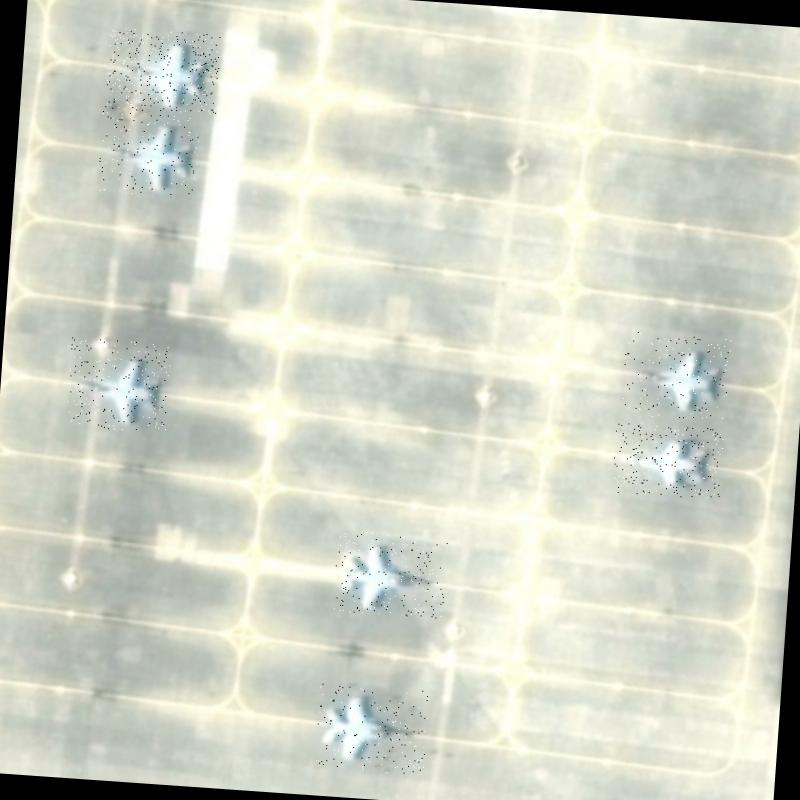A16: (314, 684, 429, 776), (105, 26, 221, 116), (620, 330, 732, 422), (65, 337, 172, 433), (332, 530, 447, 618), (97, 110, 200, 200), (611, 420, 724, 499)
